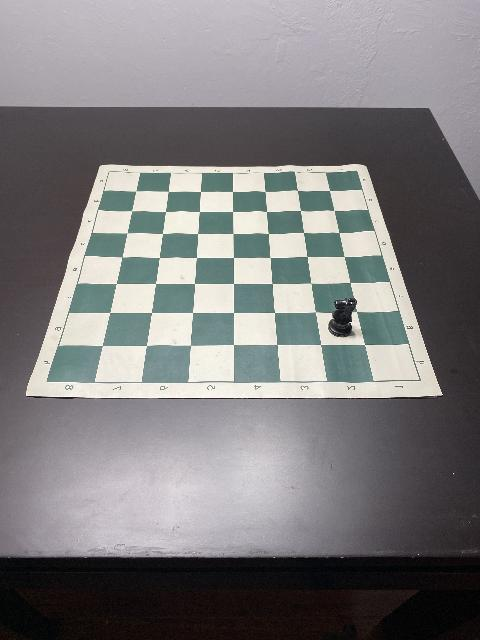black-knight: (328, 297, 358, 337)
board: (25, 162, 443, 400)
